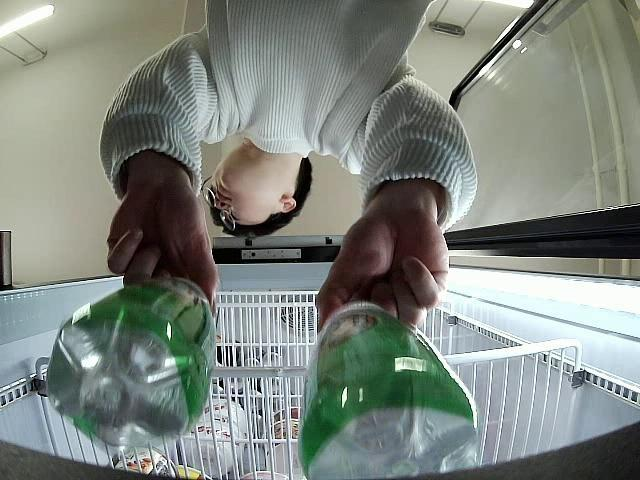18_trevi: (296, 303, 478, 480), (48, 278, 216, 449)
